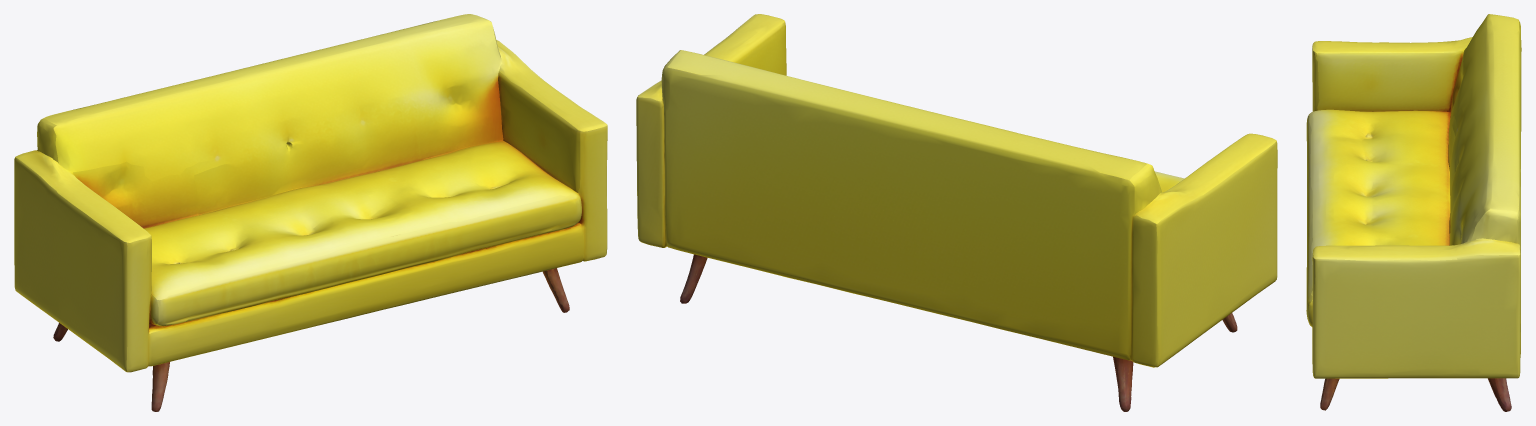
Rendered from uploads_files_6217430_yellow+modern+contemporary+sofa.fbx.
3 renders of one model, left to right at view 1: azimuth 30°, elevation 25°; view 2: azimuth 150°, elevation 25°; view 3: azimuth 270°, elevation 25°, orthographic. The views are drawn at different scales.
Visible parts, largest first — view 1: world; view 2: world; view 3: world.
Boxes of the visible parts, box(x1,y1,x2,y2) form: world: box(14, 14, 607, 411); world: box(636, 14, 1277, 411); world: box(1306, 14, 1521, 411).
Bounding box in the file's own units: 999 × 445 × 415.
Materials: 1 (1 with a texture image).
